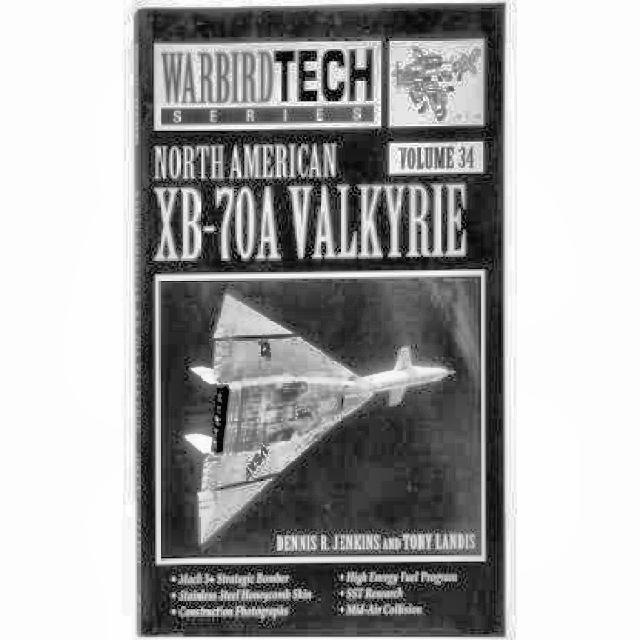XB70: (182, 293, 456, 547)
